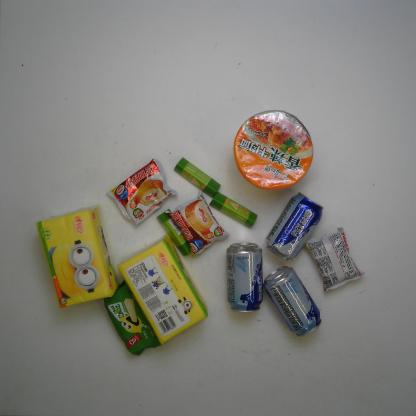Alcohol: (264, 192, 325, 262), (263, 266, 322, 336), (226, 242, 263, 313)
Dessert: (106, 158, 179, 227), (103, 280, 166, 356), (165, 189, 230, 258), (305, 227, 365, 294)
Instant Noodles: (233, 109, 314, 191)
Stationery: (173, 157, 221, 198), (209, 192, 258, 228), (156, 208, 191, 256)
Tissue: (116, 234, 208, 345), (35, 204, 119, 308)
